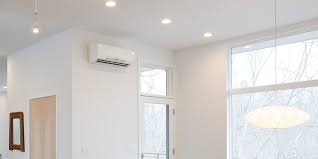ac: (88, 38, 139, 72)
